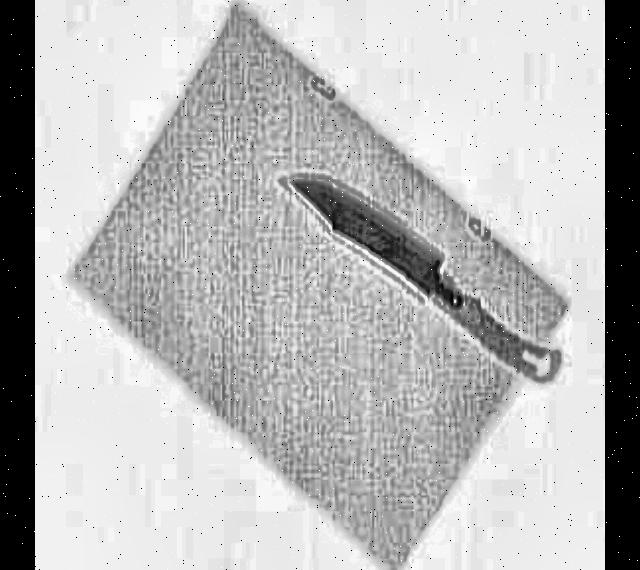Knife: (278, 157, 570, 397)
